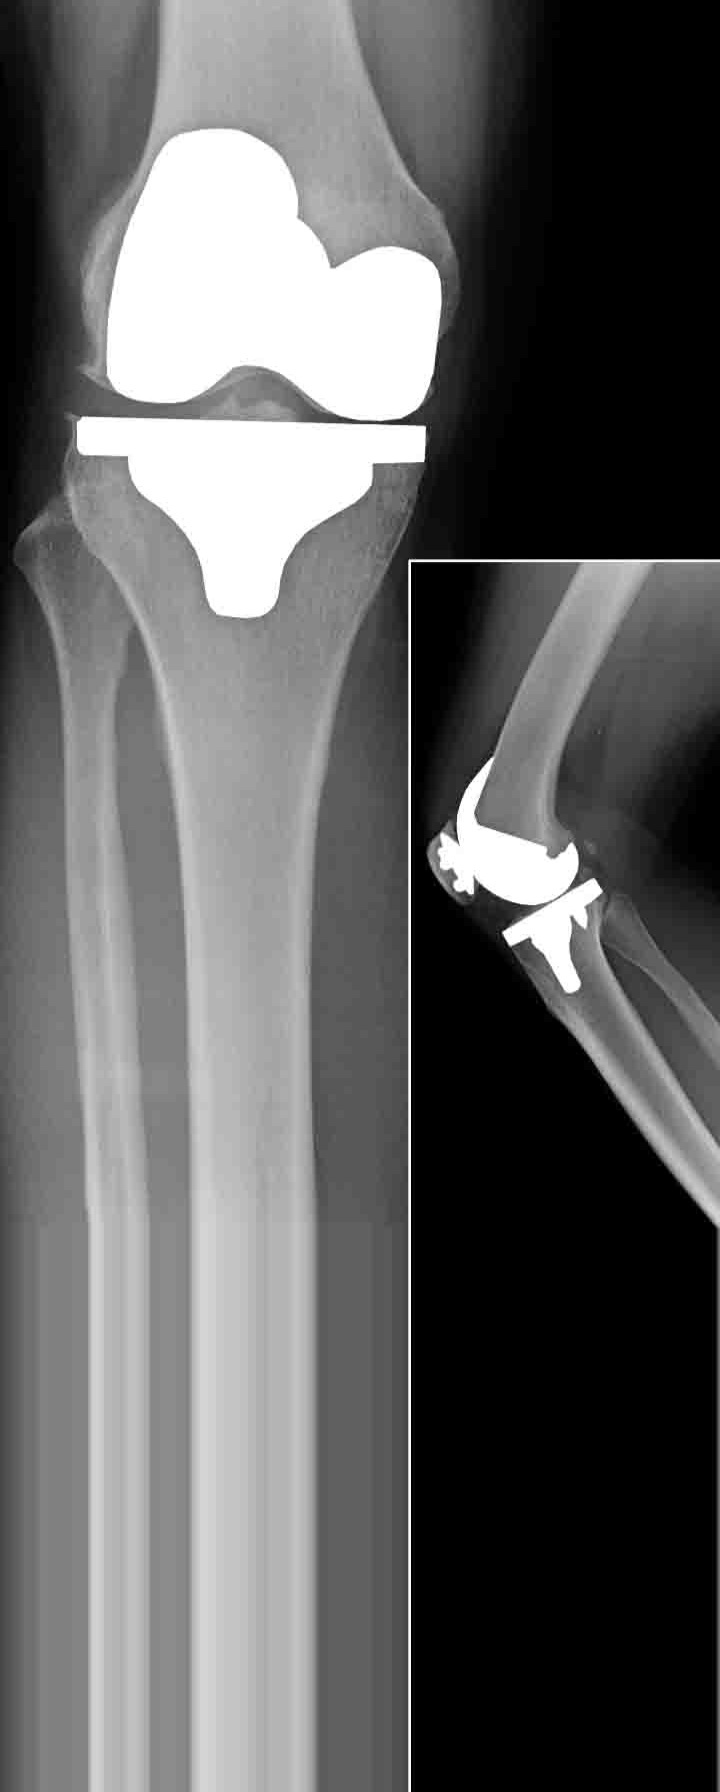Knee-TriathlonTritanium-Stryker: (75, 113, 446, 618), (433, 751, 609, 998)
